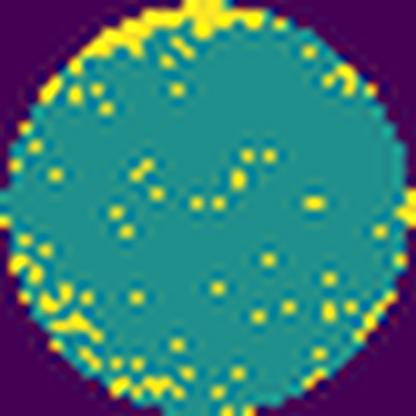Edge-Loc: (65, 0, 270, 79)
